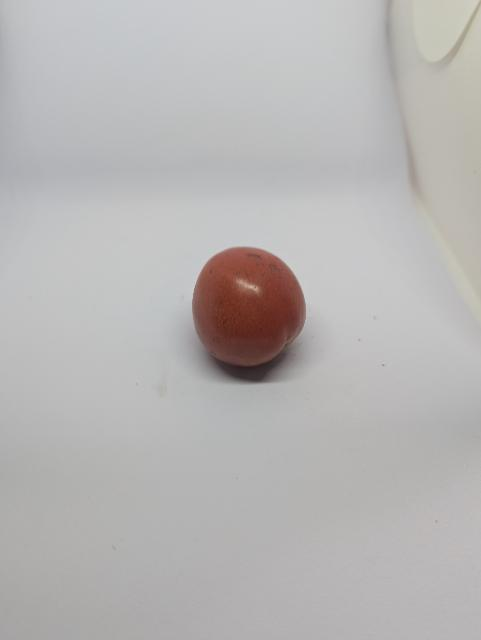red: (181, 230, 310, 385)
